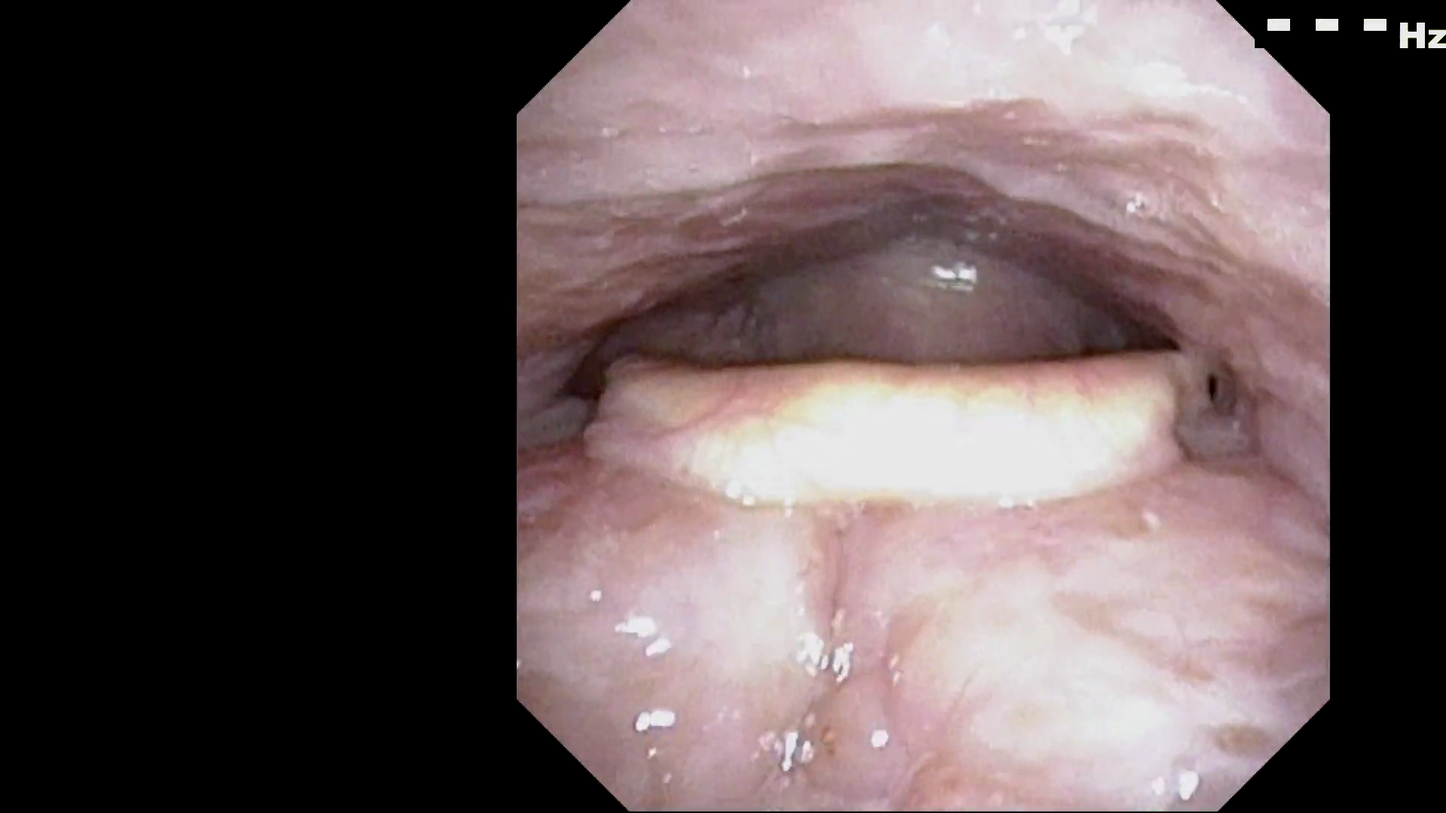epiglottis: (609, 306, 1180, 565)
trachea: (857, 353, 1018, 561)
